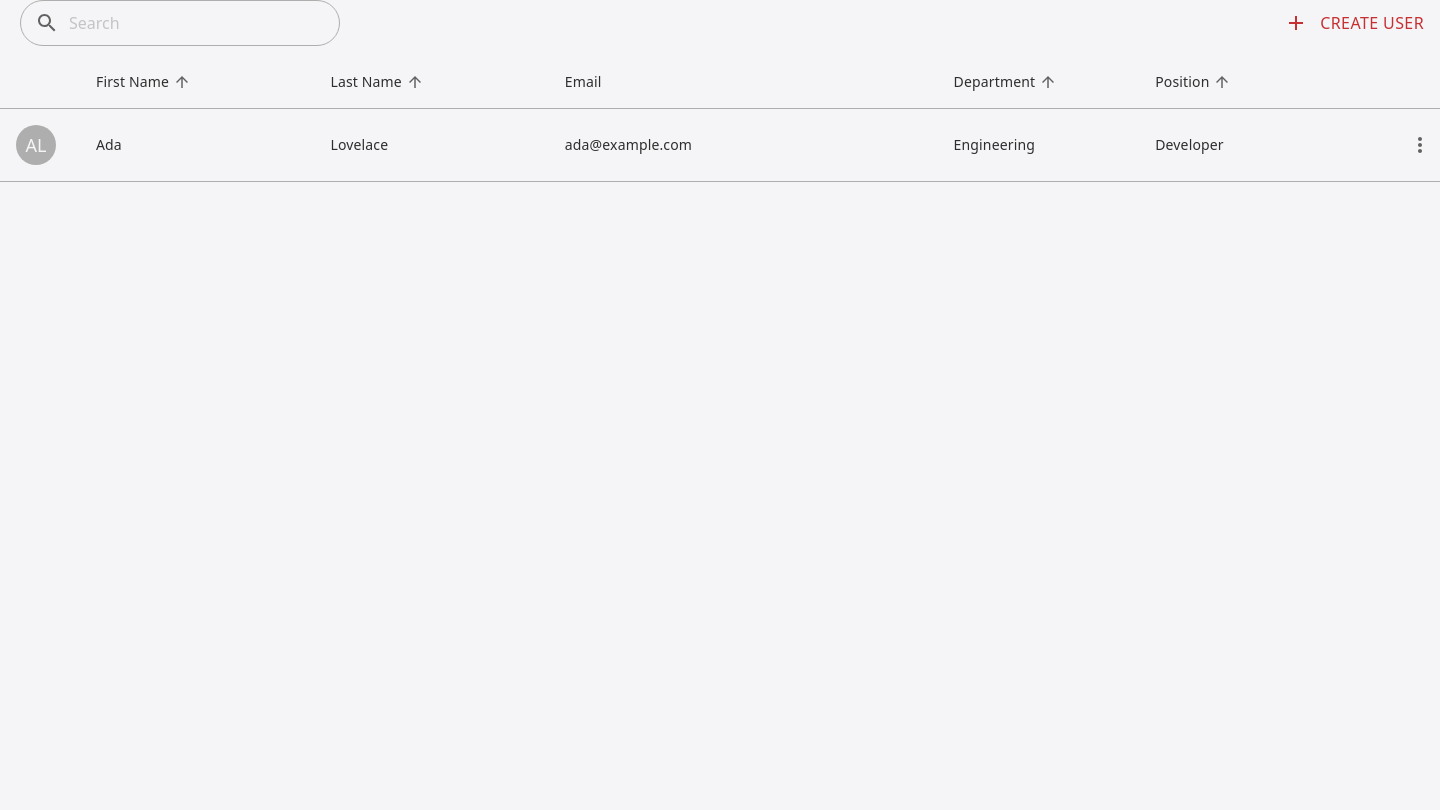
Test case: employees page › keeps the delete dialog open when the server forbids deleting a verified user
This screenshot has width=1440, height=810.
Click the button named "Actions for Ada Lovelace". click: click(1420, 144)
box: [1400,124,1439,164]
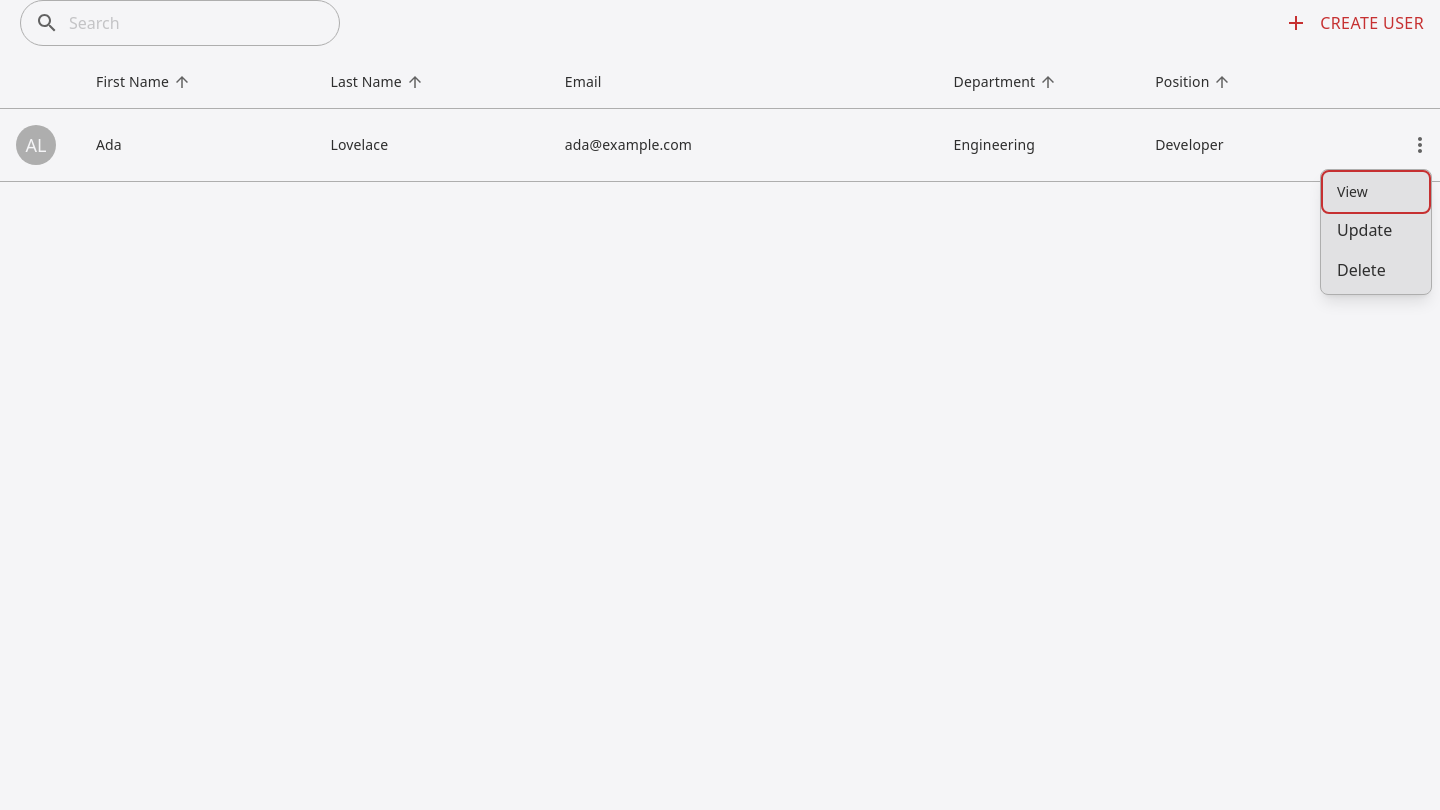
Click the menu item "Delete". click: click(1376, 270)
box: [1325,250,1427,290]
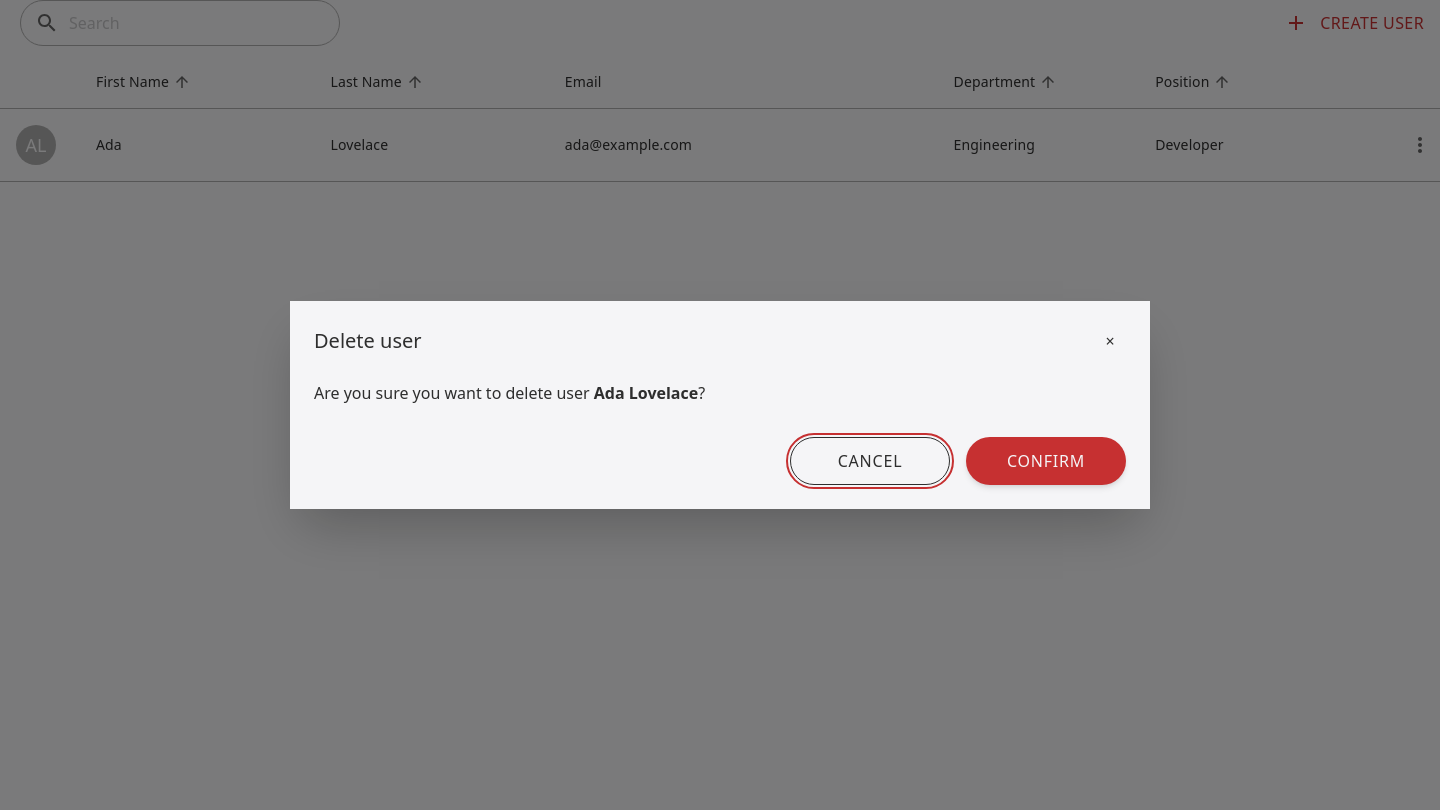
Click the button "Confirm". click: click(1046, 461)
box: [966,437,1126,485]
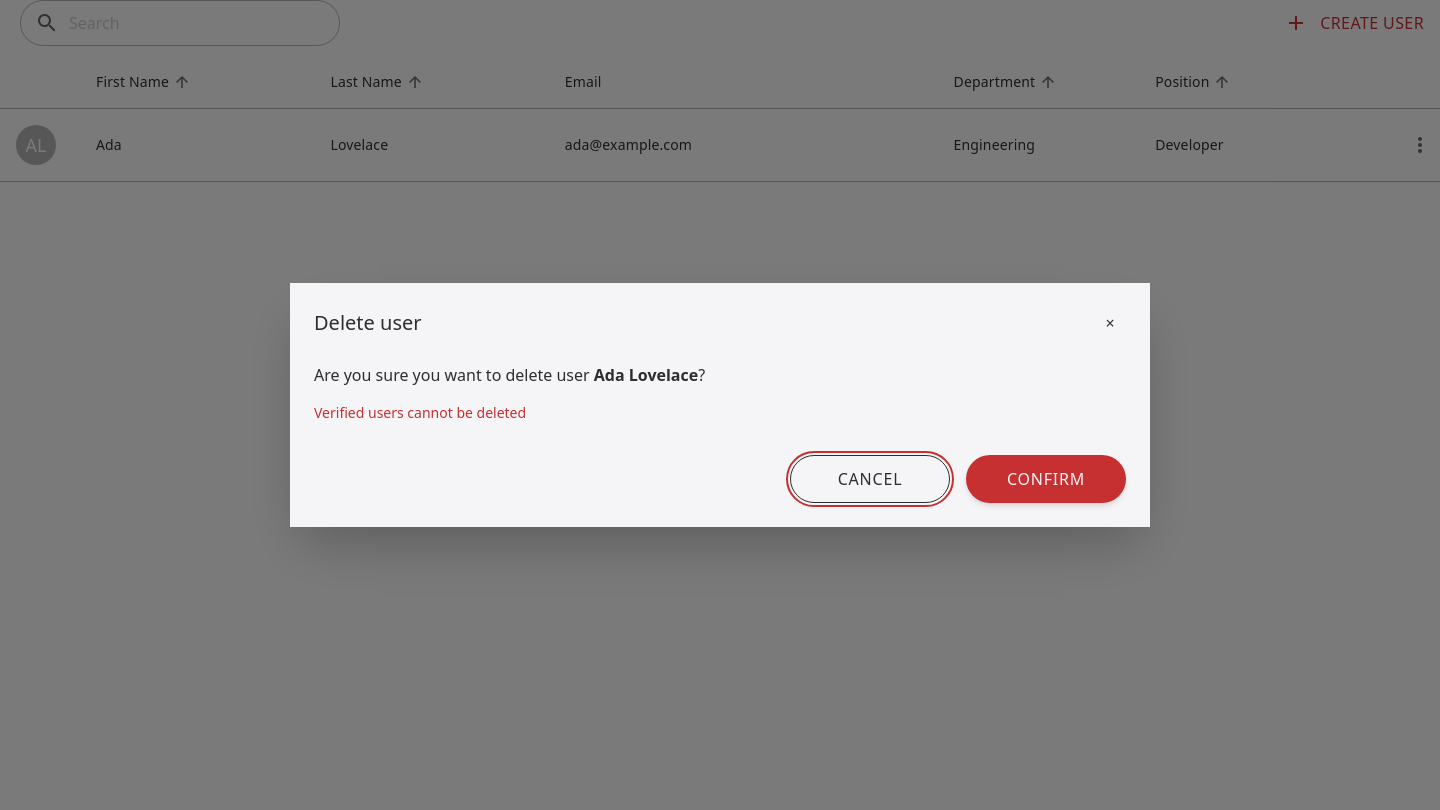
Check: the dialog "Delete user" is shown, box [290,283,1150,527]
Check: the message reads "Verified users cannot be deleted", box [314,403,526,422]
